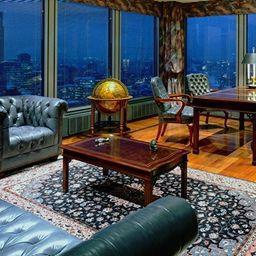Otro Obstaculo: (88, 78, 132, 130)
